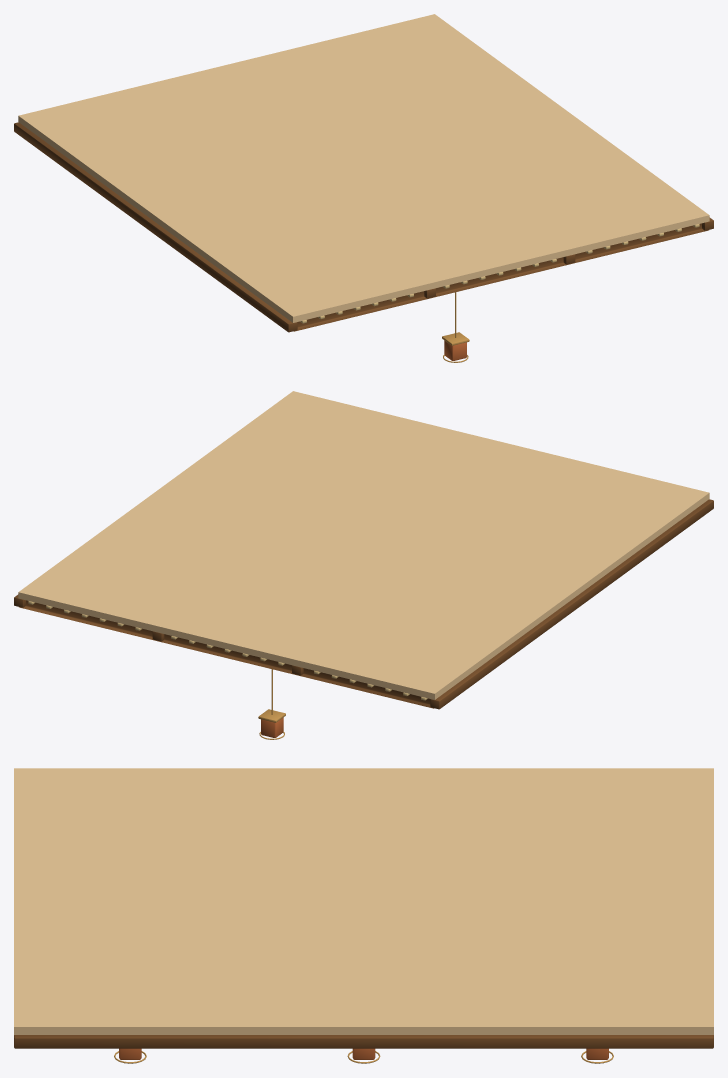
Rendered from CeilingDesert.fbx.
3 renders of one model, top to bottom at view 1: azimuth 30°, elevation 25°; view 2: azimuth 150°, elevation 25°; view 3: azimuth 270°, elevation 25°, orthographic. The views are drawn at different scales.
Visible parts, largest first — view 1: CeilingDesert; view 2: CeilingDesert; view 3: CeilingDesert.
Boxes of the visible parts, x1,y1,x2,y2 form: CeilingDesert: (14, 14, 713, 362); CeilingDesert: (14, 391, 713, 739); CeilingDesert: (14, 768, 713, 1063).
Bounding box in the file's own units: 7160 × 2020 × 8000.
